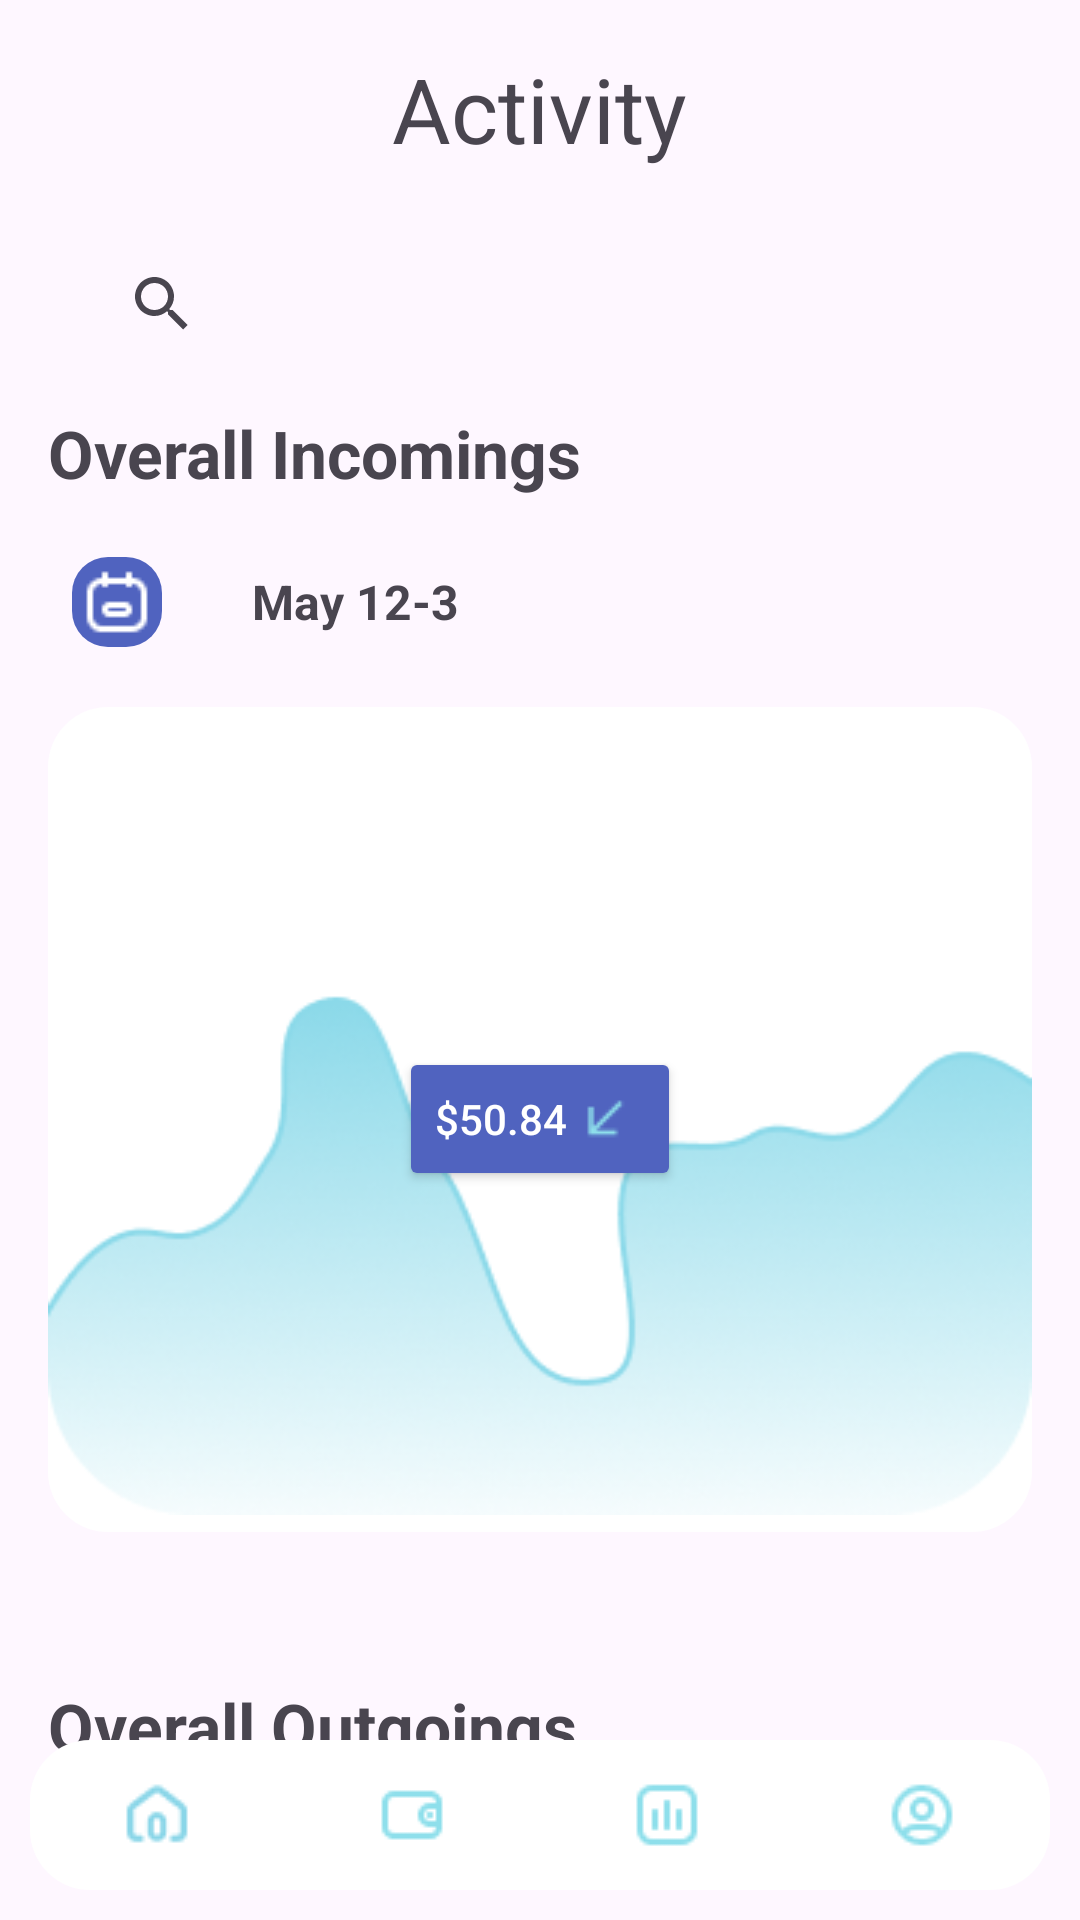

Screen size 1080px×1920px. Icon name, then its center in pixels as (x=x, y=y):
chart: (x=667, y=1815)
home: (x=157, y=1813)
prof: (x=922, y=1815)
wallet: (x=412, y=1815)
